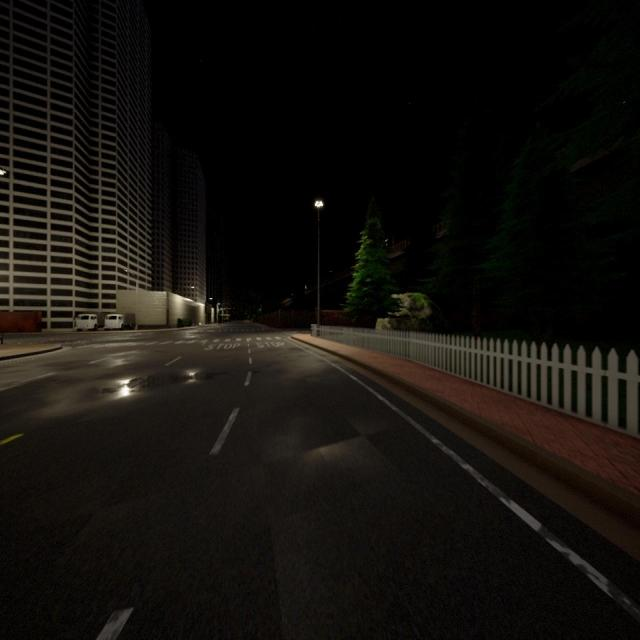Vehicle: (72, 312, 104, 332), (104, 314, 136, 331)
